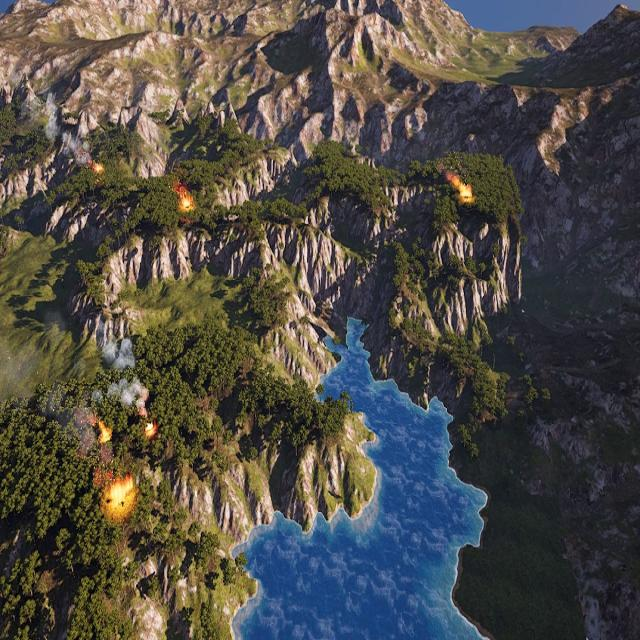fire: (107, 474, 135, 512), (450, 170, 472, 204), (177, 186, 197, 215), (96, 419, 117, 446), (143, 419, 159, 442), (94, 163, 108, 175)
smoke: (104, 331, 150, 413)
